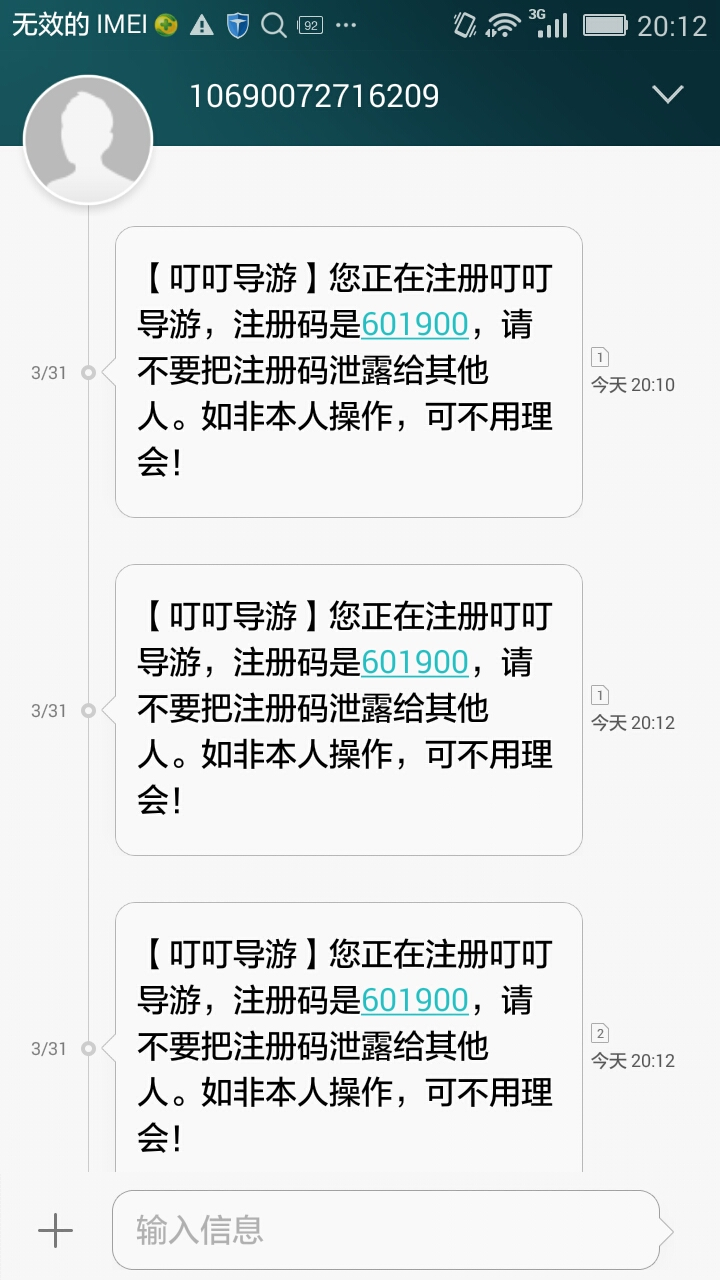imgbutton: (25, 1200, 85, 1265), (641, 76, 694, 121)
textview: (110, 217, 594, 535), (106, 1184, 686, 1276)
